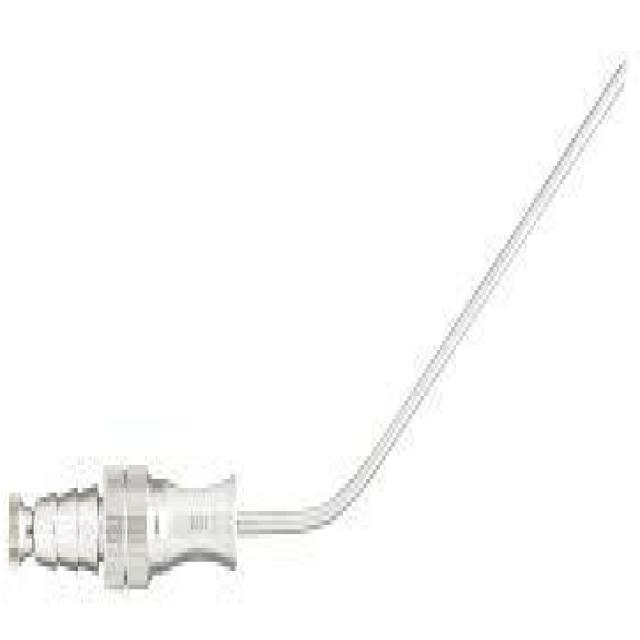Frazier: (5, 60, 628, 590)
